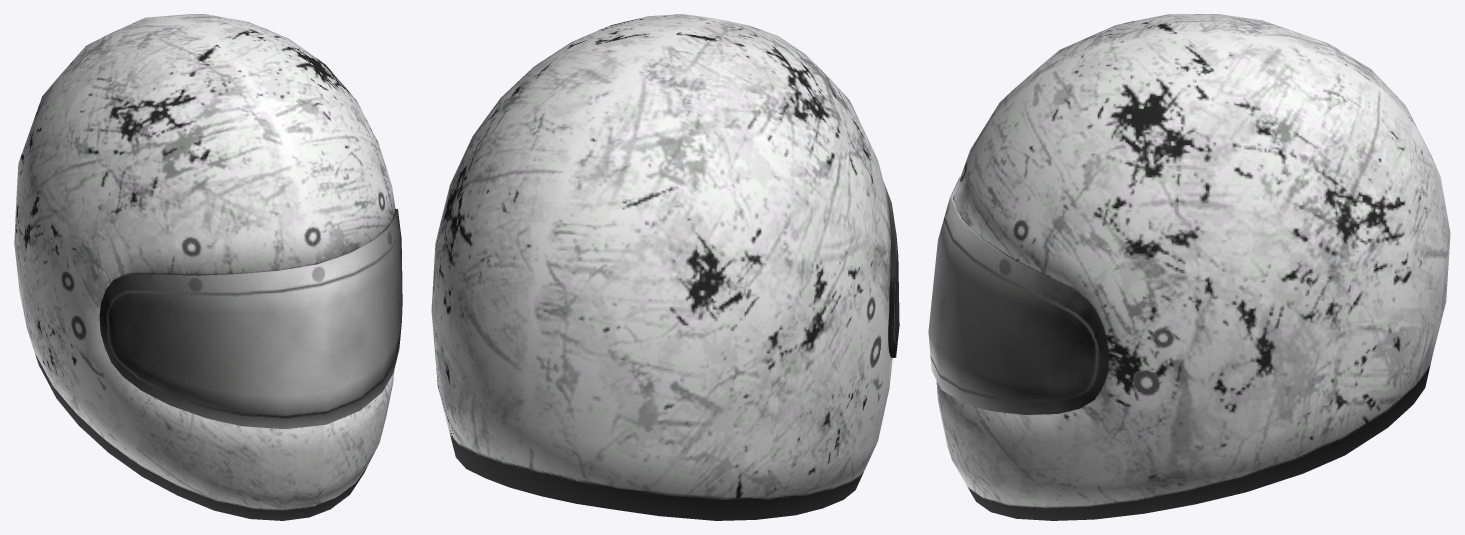
Rendered from SurvivorMale_Head_Helmet_Motorcycle_Tintable_LOD0.glb.
3 renders of one model, left to right at view 1: azimuth 30°, elevation 25°; view 2: azimuth 150°, elevation 25°; view 3: azimuth 270°, elevation 25°, orthographic. The views are drawn at different scales.
Visible parts, largest first — view 1: Hoodie; view 2: Hoodie; view 3: Hoodie.
Boxes of the visible parts, x1,y1,x2,y2 form: Hoodie: [14, 14, 402, 520]; Hoodie: [431, 14, 899, 520]; Hoodie: [928, 14, 1450, 520].
Size of the model in its own units: 0.2236 by 0.2728 by 0.2831.
Materials: 1 (1 with a texture image).
